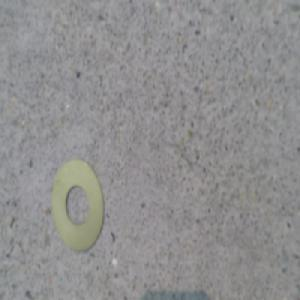Washer: (50, 160, 105, 254)
